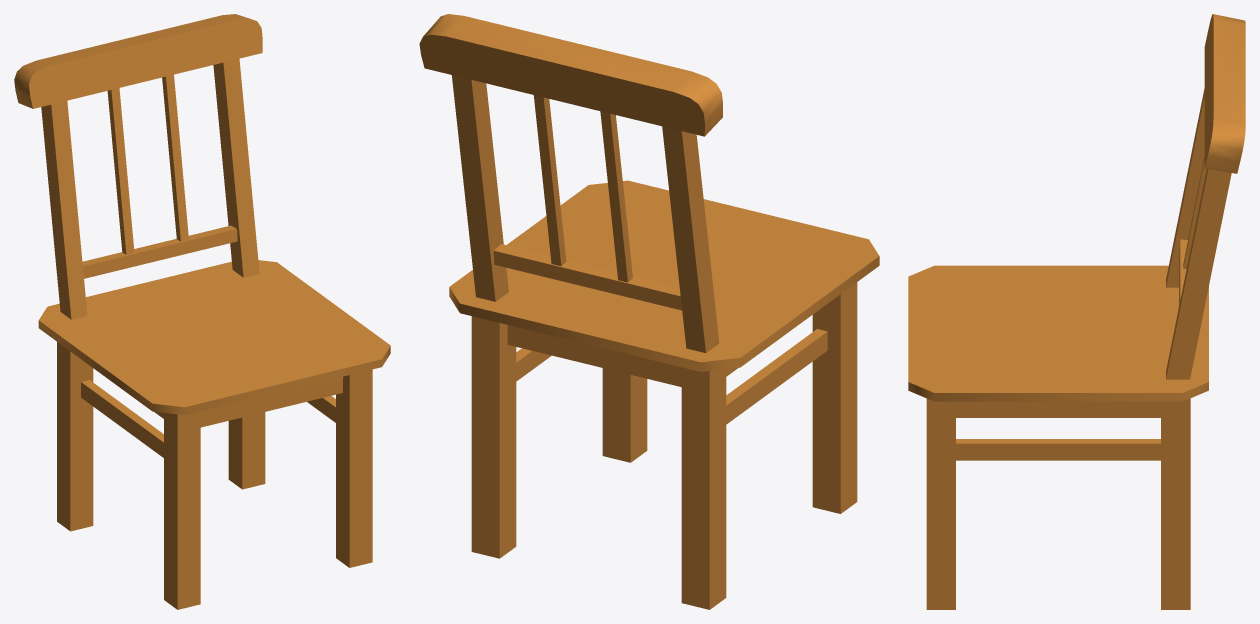
File: chair.fbx
3 renders of one model, left to right at view 1: azimuth 30°, elevation 25°; view 2: azimuth 150°, elevation 25°; view 3: azimuth 270°, elevation 25°, orthographic. The views are drawn at different scales.
Visible parts, largest first — view 1: chair; view 2: chair; view 3: chair.
Part boxes in pixels (x1,y1,x2,y2): chair: (14,14,390,609); chair: (419,14,879,609); chair: (908,14,1245,609).
Bounding box in the file's own units: 56.91 × 102 × 63.88.
